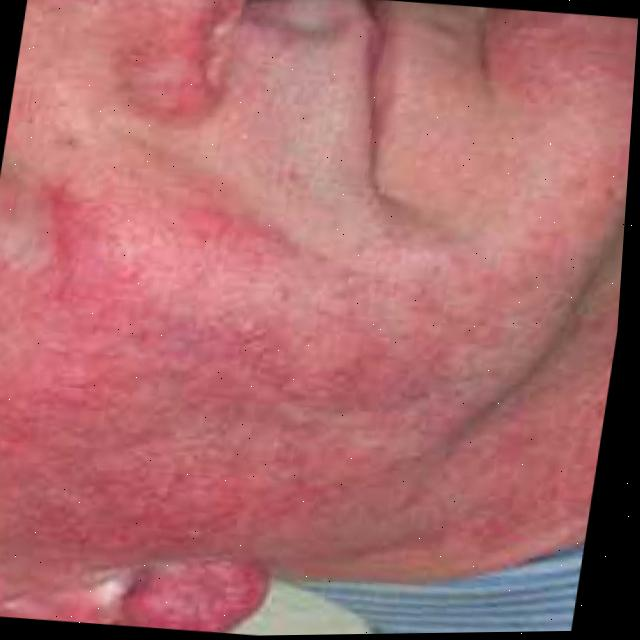Rosacea: (0, 206, 626, 583)
